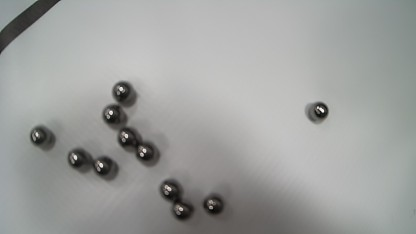ironball: (29, 125, 53, 147), (112, 81, 135, 103), (160, 179, 182, 201), (117, 127, 139, 149), (102, 104, 125, 124), (67, 148, 90, 168), (172, 201, 193, 220), (203, 195, 223, 214), (93, 156, 113, 175), (309, 101, 328, 121), (136, 143, 154, 160)
